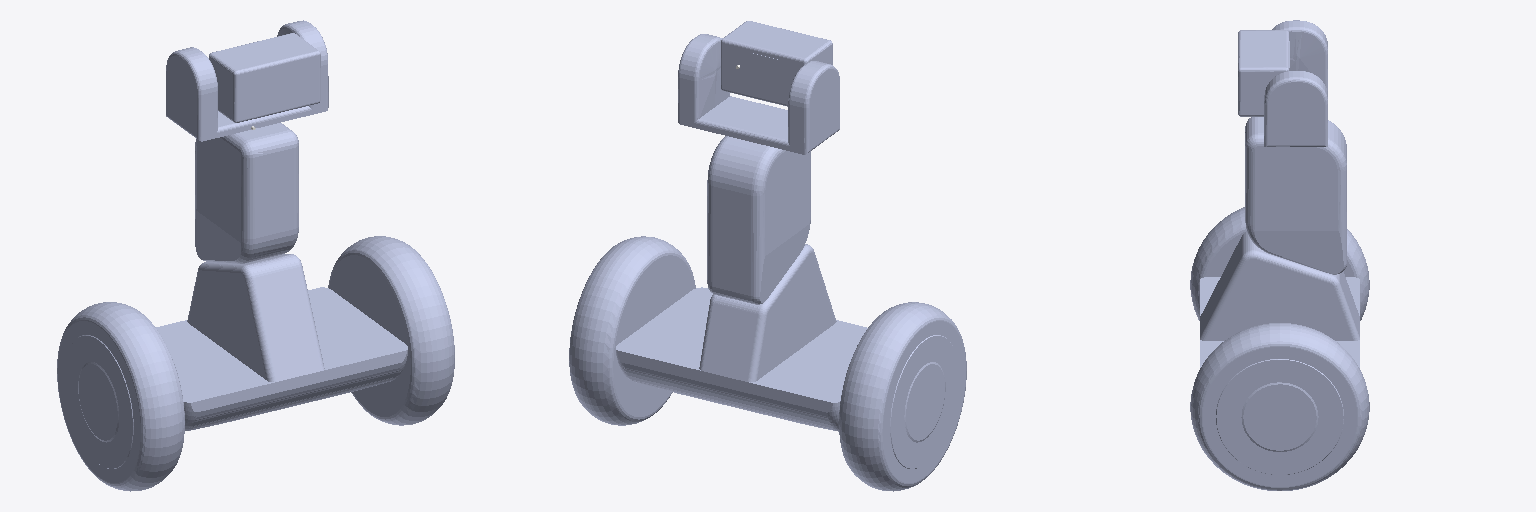
URDF robot description (loomo_description):
<?xml version="1.0" encoding="utf-8"?>
<!-- This URDF was automatically created by SolidWorks to URDF Exporter! Originally created by [author] ([email redacted]) 
     Commit Version: 1.5.1-0-g916b5db  Build Version: 1.5.7152.31018
     For more information, please see http://wiki.ros.org/sw_urdf_exporter -->
<robot
  name="loomo_description">
  <link
    name="base_link">
    <inertial>
      <origin
        xyz="4.9826E-08 0.025631 -0.0002827"
        rpy="0 0 0" />
      <mass
        value="8.1198" />
      <inertia
        ixx="0.0553"
        ixy="-8.384E-09"
        ixz="4.5635E-09"
        iyy="0.099572"
        iyz="-0.0001551"
        izz="0.086303" />
    </inertial>
    <visual>
      <origin
        xyz="0 0 0"
        rpy="0 0 0" />
      <geometry>
        <mesh
          filename="package://loomo_description/meshes/base_link.STL" />
      </geometry>
      <material
        name="">
        <color
          rgba="0.79216 0.81961 0.93333 1" />
      </material>
    </visual>
    <collision>
      <origin
        xyz="0 0 0"
        rpy="0 0 0" />
      <geometry>
        <mesh
          filename="package://loomo_description/meshes/base_link.STL" />
      </geometry>
    </collision>
  </link>
  <link
    name="base_center_ground_frame">
    <inertial>
      <origin
        xyz="-0.000282698549553816 4.9825976440378E-08 0.0256311634763029"
        rpy="0 0 0" />
      <mass
        value="8.11976367999664" />
      <inertia
        ixx="0.0863025371679234"
        ixy="4.56349683833395E-09"
        ixz="-0.000155096629108099"
        iyy="0.0553002679552578"
        iyz="-8.38399922388104E-09"
        izz="0.0995717359744463" />
    </inertial>
    <visual>
      <origin
        xyz="0 0 0"
        rpy="0 0 0" />
      <geometry>
        <mesh
          filename="package://loomo_description/meshes/base_center_ground_frame.STL" />
      </geometry>
      <material
        name="">
        <color
          rgba="0.792156862745098 0.819607843137255 0.933333333333333 1" />
      </material>
    </visual>
    <collision>
      <origin
        xyz="0 0 0"
        rpy="0 0 0" />
      <geometry>
        <mesh
          filename="package://loomo_description/meshes/base_center_ground_frame.STL" />
      </geometry>
    </collision>
  </link>
  <joint
    name="base_center_ground_joint"
    type="revolute">
    <origin
      xyz="0 0 0"
      rpy="0 0 -1.5708" />
    <parent
      link="base_link" />
    <child
      link="base_center_ground_frame" />
    <axis
      xyz="0 -1 0" />
    <limit
      lower="0"
      upper="0"
      effort="0"
      velocity="0" />
  </joint>
  <link
    name="neck_center_body_internal_frame">
    <inertial>
      <origin
        xyz="-0.0278956013169349 -1.14276232202913E-07 -0.111798627558357"
        rpy="0 0 0" />
      <mass
        value="3.11514141317435" />
      <inertia
        ixx="0.0143276231172362"
        ixy="-3.99326411595429E-08"
        ixz="-0.00155032728411974"
        iyy="0.0181814342711786"
        iyz="-3.37243882499783E-09"
        izz="0.00832949660020289" />
    </inertial>
    <visual>
      <origin
        xyz="0 0 0"
        rpy="0 0 0" />
      <geometry>
        <mesh
          filename="package://loomo_description/meshes/neck_center_body_internal_frame.STL" />
      </geometry>
      <material
        name="">
        <color
          rgba="0.792156862745098 0.819607843137255 0.933333333333333 1" />
      </material>
    </visual>
    <collision>
      <origin
        xyz="0 0 0"
        rpy="0 0 0" />
      <geometry>
        <mesh
          filename="package://loomo_description/meshes/neck_center_body_internal_frame.STL" />
      </geometry>
    </collision>
  </link>
  <joint
    name="neck_center_body_internal_joint"
    type="continuous">
    <origin
      xyz="0 0 0.38"
      rpy="0 0 0" />
    <parent
      link="base_center_ground_frame" />
    <child
      link="neck_center_body_internal_frame" />
    <axis
      xyz="0 0 -1" />
  </joint>
  <link
    name="neck_center_body_yaw_frame">
    <inertial>
      <origin
        xyz="-0.000828132734955685 2.86609496269648E-07 0.0545783254314435"
        rpy="0 0 0" />
      <mass
        value="0.996259052147996" />
      <inertia
        ixx="0.00831138012927765"
        ixy="2.69662622187785E-08"
        ixz="3.19528814787695E-10"
        iyy="0.00202259909767355"
        iyz="1.19629859113275E-08"
        izz="0.00779786011946472" />
    </inertial>
    <visual>
      <origin
        xyz="0 0 0"
        rpy="0 0 0" />
      <geometry>
        <mesh
          filename="package://loomo_description/meshes/neck_center_body_yaw_frame.STL" />
      </geometry>
      <material
        name="">
        <color
          rgba="0.792156862745098 0.819607843137255 0.933333333333333 1" />
      </material>
    </visual>
    <collision>
      <origin
        xyz="0 0 0"
        rpy="0 0 0" />
      <geometry>
        <mesh
          filename="package://loomo_description/meshes/neck_center_body_yaw_frame.STL" />
      </geometry>
    </collision>
  </link>
  <joint
    name="neck_center_body_yaw_joint"
    type="revolute">
    <origin
      xyz="-0.024672 0 0"
      rpy="0 0 0" />
    <parent
      link="neck_center_body_internal_frame" />
    <child
      link="neck_center_body_yaw_frame" />
    <axis
      xyz="0 0 -1" />
    <limit
      lower="0"
      upper="0"
      effort="0"
      velocity="0" />
  </joint>
  <link
    name="rsdepth_center_neck_fix_frame">
    <inertial>
      <origin
        xyz="0.00250000000000001 0 0"
        rpy="0 0 0" />
      <mass
        value="9.81747704246811E-05" />
      <inertia
        ixx="3.06796157577129E-10"
        ixy="-8.61646471409404E-27"
        ixz="-1.18574757816703E-42"
        iyy="3.5792885050665E-10"
        iyz="-3.88938454866321E-58"
        izz="3.5792885050665E-10" />
    </inertial>
    <visual>
      <origin
        xyz="0 0 0"
        rpy="0 0 0" />
      <geometry>
        <mesh
          filename="package://loomo_description/meshes/rsdepth_center_neck_fix_frame.STL" />
      </geometry>
      <material
        name="">
        <color
          rgba="1 1 1 1" />
      </material>
    </visual>
    <collision>
      <origin
        xyz="0 0 0"
        rpy="0 0 0" />
      <geometry>
        <mesh
          filename="package://loomo_description/meshes/rsdepth_center_neck_fix_frame.STL" />
      </geometry>
    </collision>
  </link>
  <joint
    name="rsdepth_center_neck_fix_joint"
    type="fixed">
    <origin
      xyz="0.049172 -0.02 0.012907"
      rpy="0 0 0" />
    <parent
      link="neck_center_body_yaw_frame" />
    <child
      link="rsdepth_center_neck_fix_frame" />
    <axis
      xyz="0 0 0" />
  </joint>
  <link
    name="rscolor_center_neck_fix_frame">
    <inertial>
      <origin
        xyz="0.00250000000000001 6.93889390390723E-18 0"
        rpy="0 0 0" />
      <mass
        value="9.81747704246811E-05" />
      <inertia
        ixx="3.06796157577129E-10"
        ixy="-8.61646471409404E-27"
        ixz="-1.18574757816703E-42"
        iyy="3.5792885050665E-10"
        iyz="-3.88938454866321E-58"
        izz="3.5792885050665E-10" />
    </inertial>
    <visual>
      <origin
        xyz="0 0 0"
        rpy="0 0 0" />
      <geometry>
        <mesh
          filename="package://loomo_description/meshes/rscolor_center_neck_fix_frame.STL" />
      </geometry>
      <material
        name="">
        <color
          rgba="1 1 1 1" />
      </material>
    </visual>
    <collision>
      <origin
        xyz="0 0 0"
        rpy="0 0 0" />
      <geometry>
        <mesh
          filename="package://loomo_description/meshes/rscolor_center_neck_fix_frame.STL" />
      </geometry>
    </collision>
  </link>
  <joint
    name="rscolor_center_neck_fix_joint"
    type="fixed">
    <origin
      xyz="0.049172 -0.04 0.012907"
      rpy="0 0 0" />
    <parent
      link="neck_center_body_yaw_frame" />
    <child
      link="rscolor_center_neck_fix_frame" />
    <axis
      xyz="0 0 0" />
  </joint>
  <link
    name="head_center_neck_pitch_frame">
    <inertial>
      <origin
        xyz="-0.00114448581858739 5.18459807645892E-09 -0.025368274737453"
        rpy="0 0 0" />
      <mass
        value="0.977813834278322" />
      <inertia
        ixx="0.00224281696044669"
        ixy="-3.87316176779403E-10"
        ixz="2.24235415527069E-10"
        iyy="0.0010893701940155"
        iyz="-4.75870304185978E-10"
        izz="0.00229161439640982" />
    </inertial>
    <visual>
      <origin
        xyz="0 0 0"
        rpy="0 0 0" />
      <geometry>
        <mesh
          filename="package://loomo_description/meshes/head_center_neck_pitch_frame.STL" />
      </geometry>
      <material
        name="">
        <color
          rgba="0.792156862745098 0.819607843137255 0.933333333333333 1" />
      </material>
    </visual>
    <collision>
      <origin
        xyz="0 0 0"
        rpy="0 0 0" />
      <geometry>
        <mesh
          filename="package://loomo_description/meshes/head_center_neck_pitch_frame.STL" />
      </geometry>
    </collision>
  </link>
  <joint
    name="head_center_neck_pitch_joint"
    type="revolute">
    <origin
      xyz="0.024672 0 0.089144"
      rpy="0 -1.5708 0" />
    <parent
      link="neck_center_body_yaw_frame" />
    <child
      link="head_center_neck_pitch_frame" />
    <axis
      xyz="0 1 0" />
    <limit
      lower="0"
      upper="0"
      effort="0"
      velocity="0" />
  </joint>
  <link
    name="platform_center_head_fix_frame">
    <inertial>
      <origin
        xyz="-5.55111512312578E-17 -6.93889390390723E-18 0.0025"
        rpy="0 0 0" />
      <mass
        value="9.81747704246811E-05" />
      <inertia
        ixx="3.5792885050665E-10"
        ixy="-3.88938454866321E-58"
        ixz="-1.18574757816703E-42"
        iyy="3.5792885050665E-10"
        iyz="-8.61646471409405E-27"
        izz="3.06796157577129E-10" />
    </inertial>
    <visual>
      <origin
        xyz="0 0 0"
        rpy="0 0 0" />
      <geometry>
        <mesh
          filename="package://loomo_description/meshes/platform_center_head_fix_frame.STL" />
      </geometry>
      <material
        name="">
        <color
          rgba="1 1 1 1" />
      </material>
    </visual>
    <collision>
      <origin
        xyz="0 0 0"
        rpy="0 0 0" />
      <geometry>
        <mesh
          filename="package://loomo_description/meshes/platform_center_head_fix_frame.STL" />
      </geometry>
    </collision>
  </link>
  <joint
    name="platform_center_head_fix_joint"
    type="fixed">
    <origin
      xyz="0.0046826 0.04 0.0145"
      rpy="0 0 0" />
    <parent
      link="head_center_neck_pitch_frame" />
    <child
      link="platform_center_head_fix_frame" />
    <axis
      xyz="0 0 0" />
  </joint>
  <link
    name="left_wheel_frame">
    <inertial>
      <origin
        xyz="-5.83977248643685E-10 0.00159192387976809 2.61420104086719E-09"
        rpy="0 0 0" />
      <mass
        value="4.17662159562663" />
      <inertia
        ixx="0.0209332395777932"
        ixy="-7.06480372567567E-11"
        ixz="1.97259405847453E-07"
        iyy="0.0383274182189435"
        iyz="2.60224084208917E-10"
        izz="0.020930447790628" />
    </inertial>
    <visual>
      <origin
        xyz="0 0 0"
        rpy="0 0 0" />
      <geometry>
        <mesh
          filename="package://loomo_description/meshes/left_wheel_frame.STL" />
      </geometry>
      <material
        name="">
        <color
          rgba="0.792156862745098 0.819607843137255 0.933333333333333 1" />
      </material>
    </visual>
    <collision>
      <origin
        xyz="0 0 0"
        rpy="0 0 0" />
      <geometry>
        <mesh
          filename="package://loomo_description/meshes/left_wheel_frame.STL" />
      </geometry>
    </collision>
  </link>
  <joint
    name="left_wheel_joint"
    type="revolute">
    <origin
      xyz="0.22519 0 0"
      rpy="0 0 -1.5708" />
    <parent
      link="base_link" />
    <child
      link="left_wheel_frame" />
    <axis
      xyz="0 -1 0" />
    <limit
      lower="0"
      upper="0"
      effort="0"
      velocity="0" />
  </joint>
  <link
    name="right_wheel_frame">
    <inertial>
      <origin
        xyz="5.84026906800422E-10 0.00292642915255981 2.61420569308923E-09"
        rpy="0 0 0" />
      <mass
        value="4.17662159562663" />
      <inertia
        ixx="0.0209332395777932"
        ixy="-7.06443898116689E-11"
        ixz="-1.97259405847807E-07"
        iyy="0.038327415469301"
        iyz="-2.60224713784043E-10"
        izz="0.0209304450409855" />
    </inertial>
    <visual>
      <origin
        xyz="0 0 0"
        rpy="0 0 0" />
      <geometry>
        <mesh
          filename="package://loomo_description/meshes/right_wheel_frame.STL" />
      </geometry>
      <material
        name="">
        <color
          rgba="0.792156862745098 0.819607843137255 0.933333333333333 1" />
      </material>
    </visual>
    <collision>
      <origin
        xyz="0 0 0"
        rpy="0 0 0" />
      <geometry>
        <mesh
          filename="package://loomo_description/meshes/right_wheel_frame.STL" />
      </geometry>
    </collision>
  </link>
  <joint
    name="right_wheel_joint"
    type="revolute">
    <origin
      xyz="-0.22971 0 0"
      rpy="0 0 -1.5708" />
    <parent
      link="base_link" />
    <child
      link="right_wheel_frame" />
    <axis
      xyz="0 -1 0" />
    <limit
      lower="0"
      upper="0"
      effort="0"
      velocity="0" />
  </joint>
</robot>

--- What the picture shows (computed from the rendered views, not written in the file) ---
Views: 3 orthographic renders of the robot side by side, from view 1: azimuth 30°, elevation 25°; view 2: azimuth 150°, elevation 25°; view 3: azimuth 270°, elevation 25°.
Robot: loomo_description — 10 links, 9 joints (5 revolute, 1 continuous, 3 fixed); root link base_link; default pose: every joint at zero.
Links seen in each view (by area): view 1: right_wheel_frame, base_link, left_wheel_frame, neck_center_body_internal_frame, base_center_ground_frame, head_center_neck_pitch_frame, neck_center_body_yaw_frame; view 2: right_wheel_frame, base_link, neck_center_body_internal_frame, left_wheel_frame, neck_center_body_yaw_frame, base_center_ground_frame, head_center_neck_pitch_frame; view 3: left_wheel_frame, neck_center_body_internal_frame, base_link, neck_center_body_yaw_frame, base_center_ground_frame, head_center_neck_pitch_frame, right_wheel_frame.
Link boxes in pixels (x1,y1,x2,y2): right_wheel_frame: [57, 302, 184, 491]; base_link: [156, 254, 407, 430]; left_wheel_frame: [328, 236, 454, 425]; neck_center_body_internal_frame: [195, 123, 298, 263]; base_center_ground_frame: [156, 255, 407, 428]; head_center_neck_pitch_frame: [209, 33, 320, 122]; neck_center_body_yaw_frame: [166, 20, 328, 141]; right_wheel_frame: [839, 302, 966, 491]; base_link: [616, 244, 867, 431]; neck_center_body_internal_frame: [707, 136, 810, 304]; left_wheel_frame: [569, 236, 695, 425]; neck_center_body_yaw_frame: [678, 34, 839, 154]; base_center_ground_frame: [616, 248, 866, 430]; head_center_neck_pitch_frame: [721, 21, 832, 106]; left_wheel_frame: [1190, 323, 1369, 490]; neck_center_body_internal_frame: [1245, 117, 1346, 274]; base_link: [1200, 231, 1359, 367]; neck_center_body_yaw_frame: [1264, 20, 1327, 146]; base_center_ground_frame: [1200, 244, 1359, 367]; head_center_neck_pitch_frame: [1238, 30, 1289, 116]; right_wheel_frame: [1190, 207, 1369, 320].
Bounding box of the posed robot: 0.5292 × 0.2789 × 0.6497 m (x, y, z).
9 mesh visuals loaded from 10 distinct referenced files (9 binary STL); not drawn: 1 (reference not matched to a file when rendering).